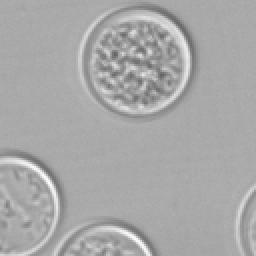picoshell: (84, 8, 192, 114), (0, 154, 60, 254), (52, 220, 154, 254), (234, 184, 254, 254)
